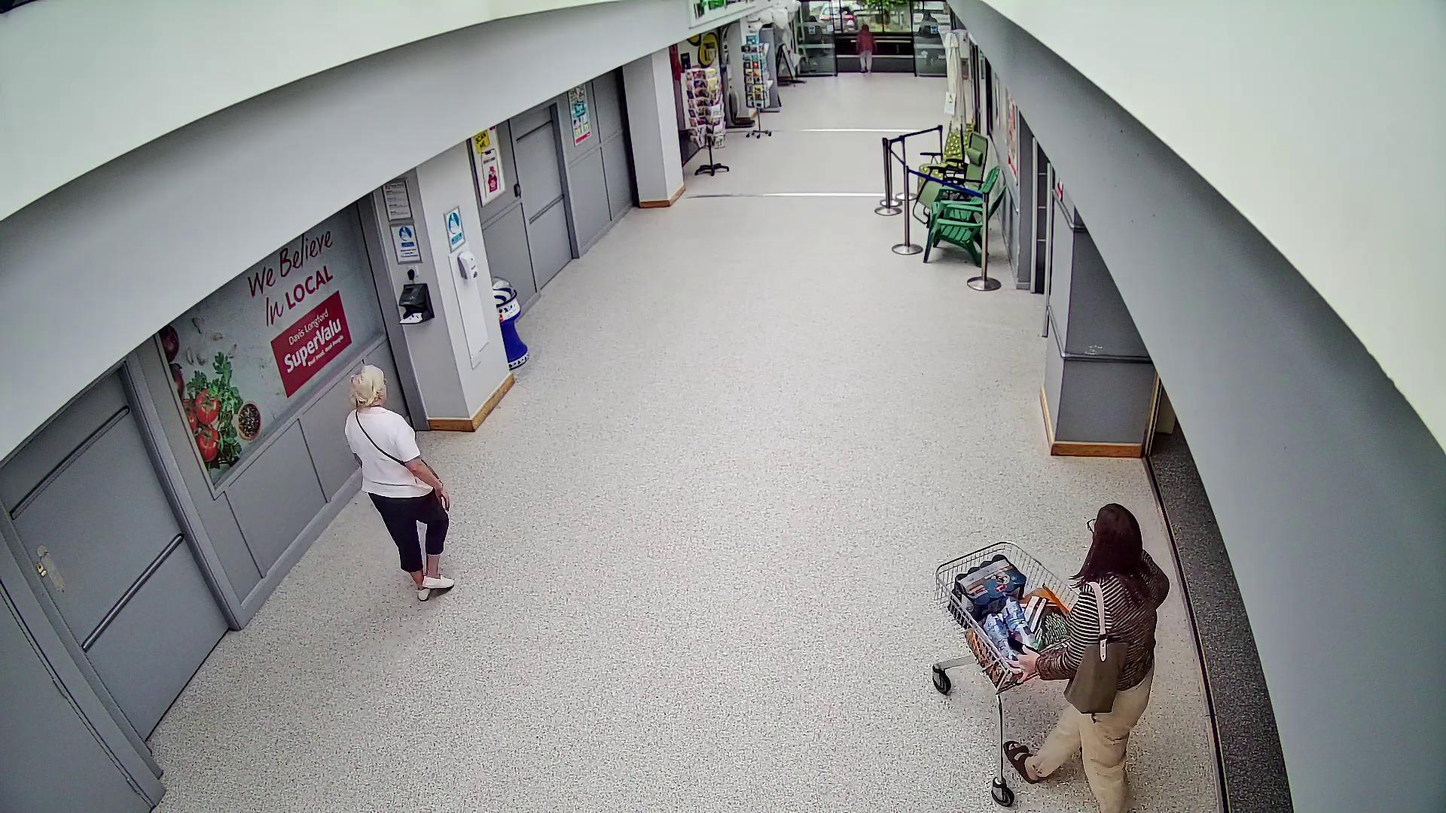backpack-or-handbag: (1065, 640, 1129, 713)
filled-trolly: (931, 541, 1086, 806)
person: (1002, 504, 1169, 813)
